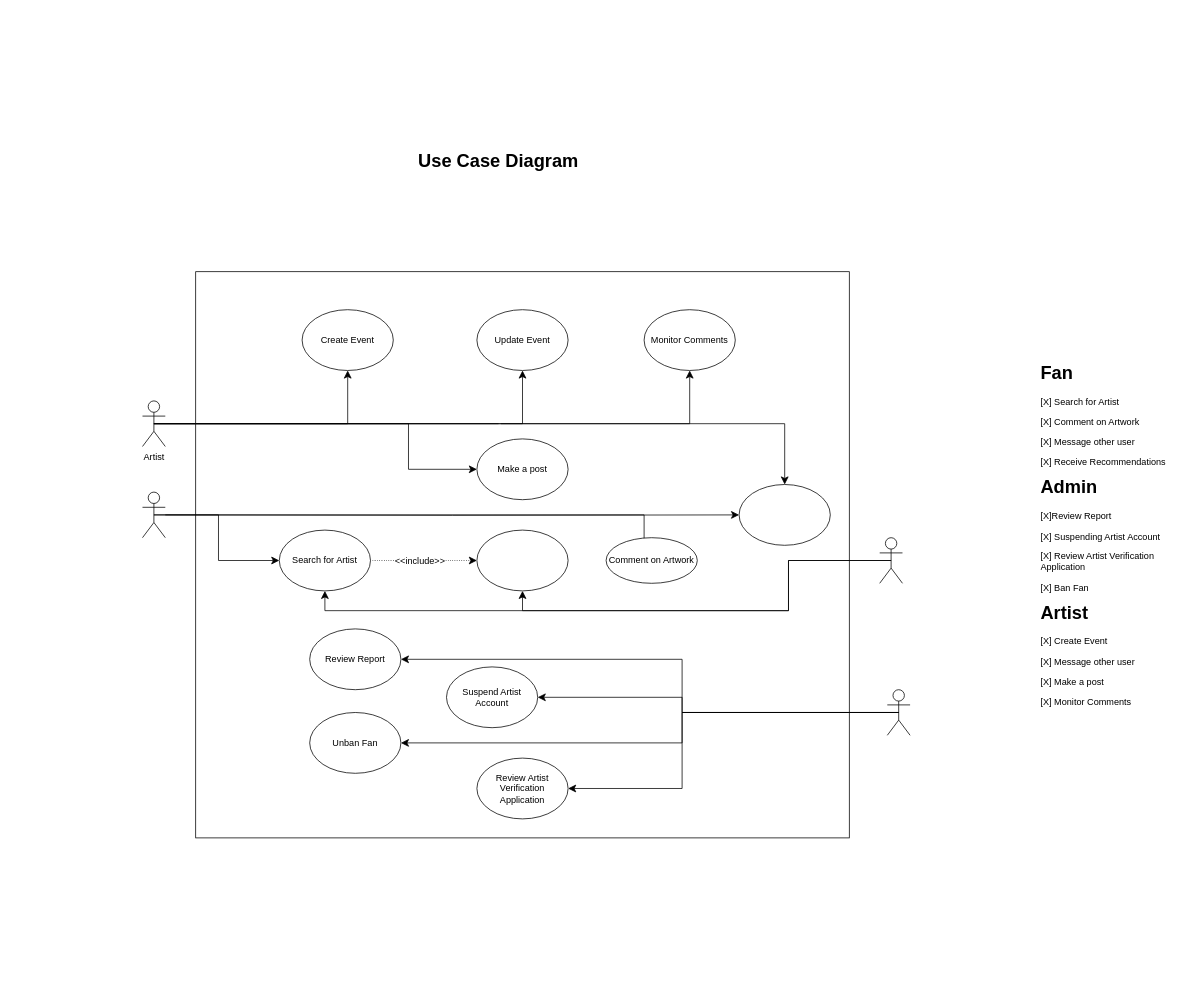
Image size: 1189x983. Some labels were removed from this diagram. The shapes that lost their labels are listed below. From the top down, each one's box as (x1, y1, x2, y2) in pixels, then its label:
(142, 491, 165, 538): Fan
(738, 484, 830, 545): Message Users
(476, 529, 568, 591): Receive Recommendations
(879, 537, 902, 583): System
(887, 689, 910, 735): Admin
